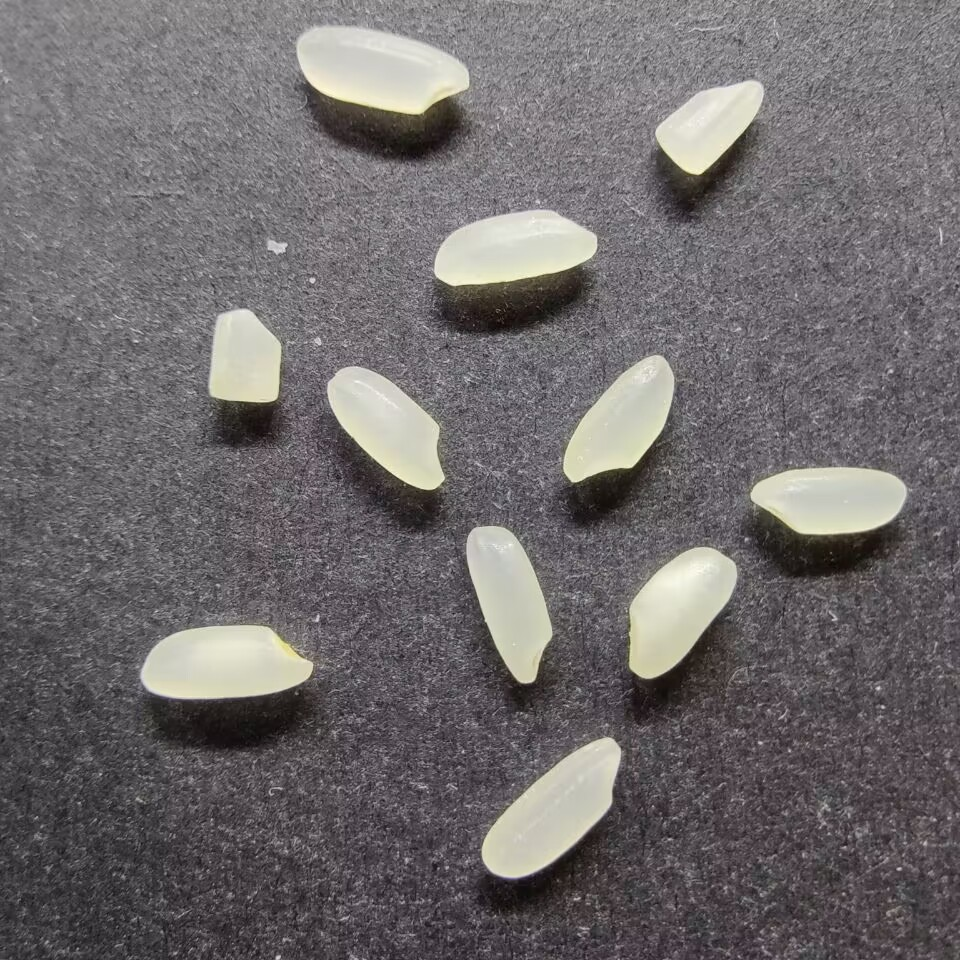broken: (652, 77, 767, 177), (206, 307, 284, 404)
rice: (479, 736, 622, 881), (294, 22, 472, 117), (325, 364, 445, 493), (625, 545, 738, 681), (560, 353, 677, 484), (463, 522, 554, 686), (137, 623, 314, 702), (431, 207, 598, 288), (747, 465, 908, 538)
